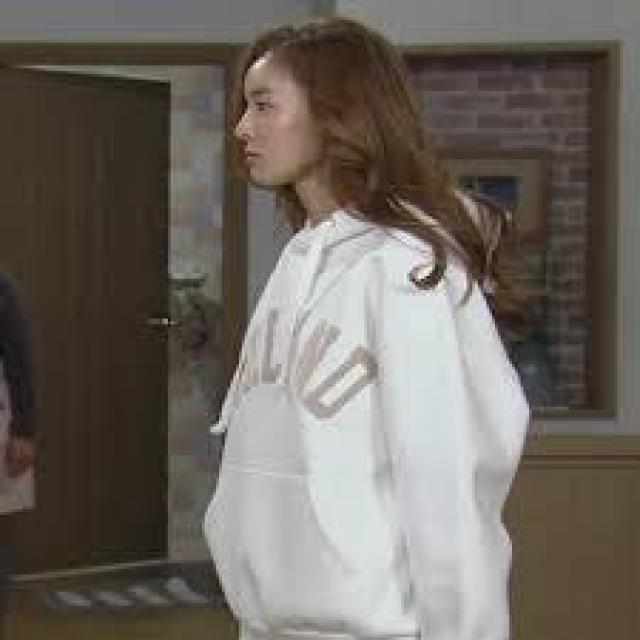sweater: (204, 215, 530, 633)
